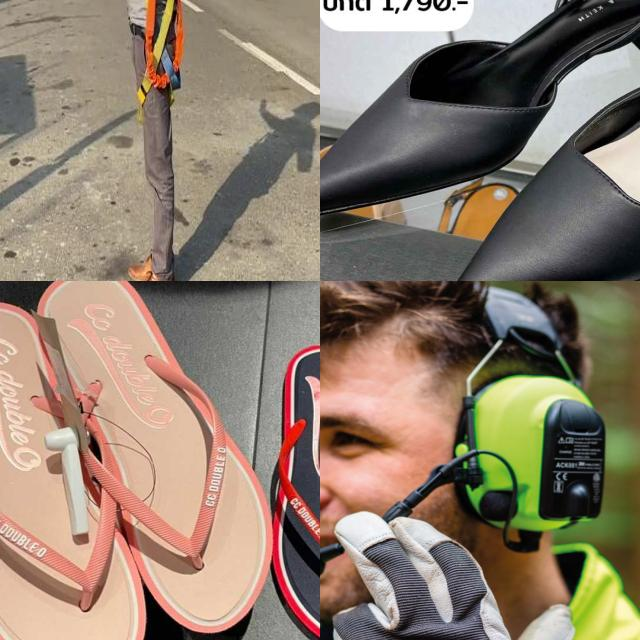Ear-protection: (320, 281, 611, 617)
Harness: (141, 0, 185, 104)
Sandals: (0, 281, 283, 640), (320, 0, 640, 229), (418, 0, 640, 281), (256, 300, 320, 640)
